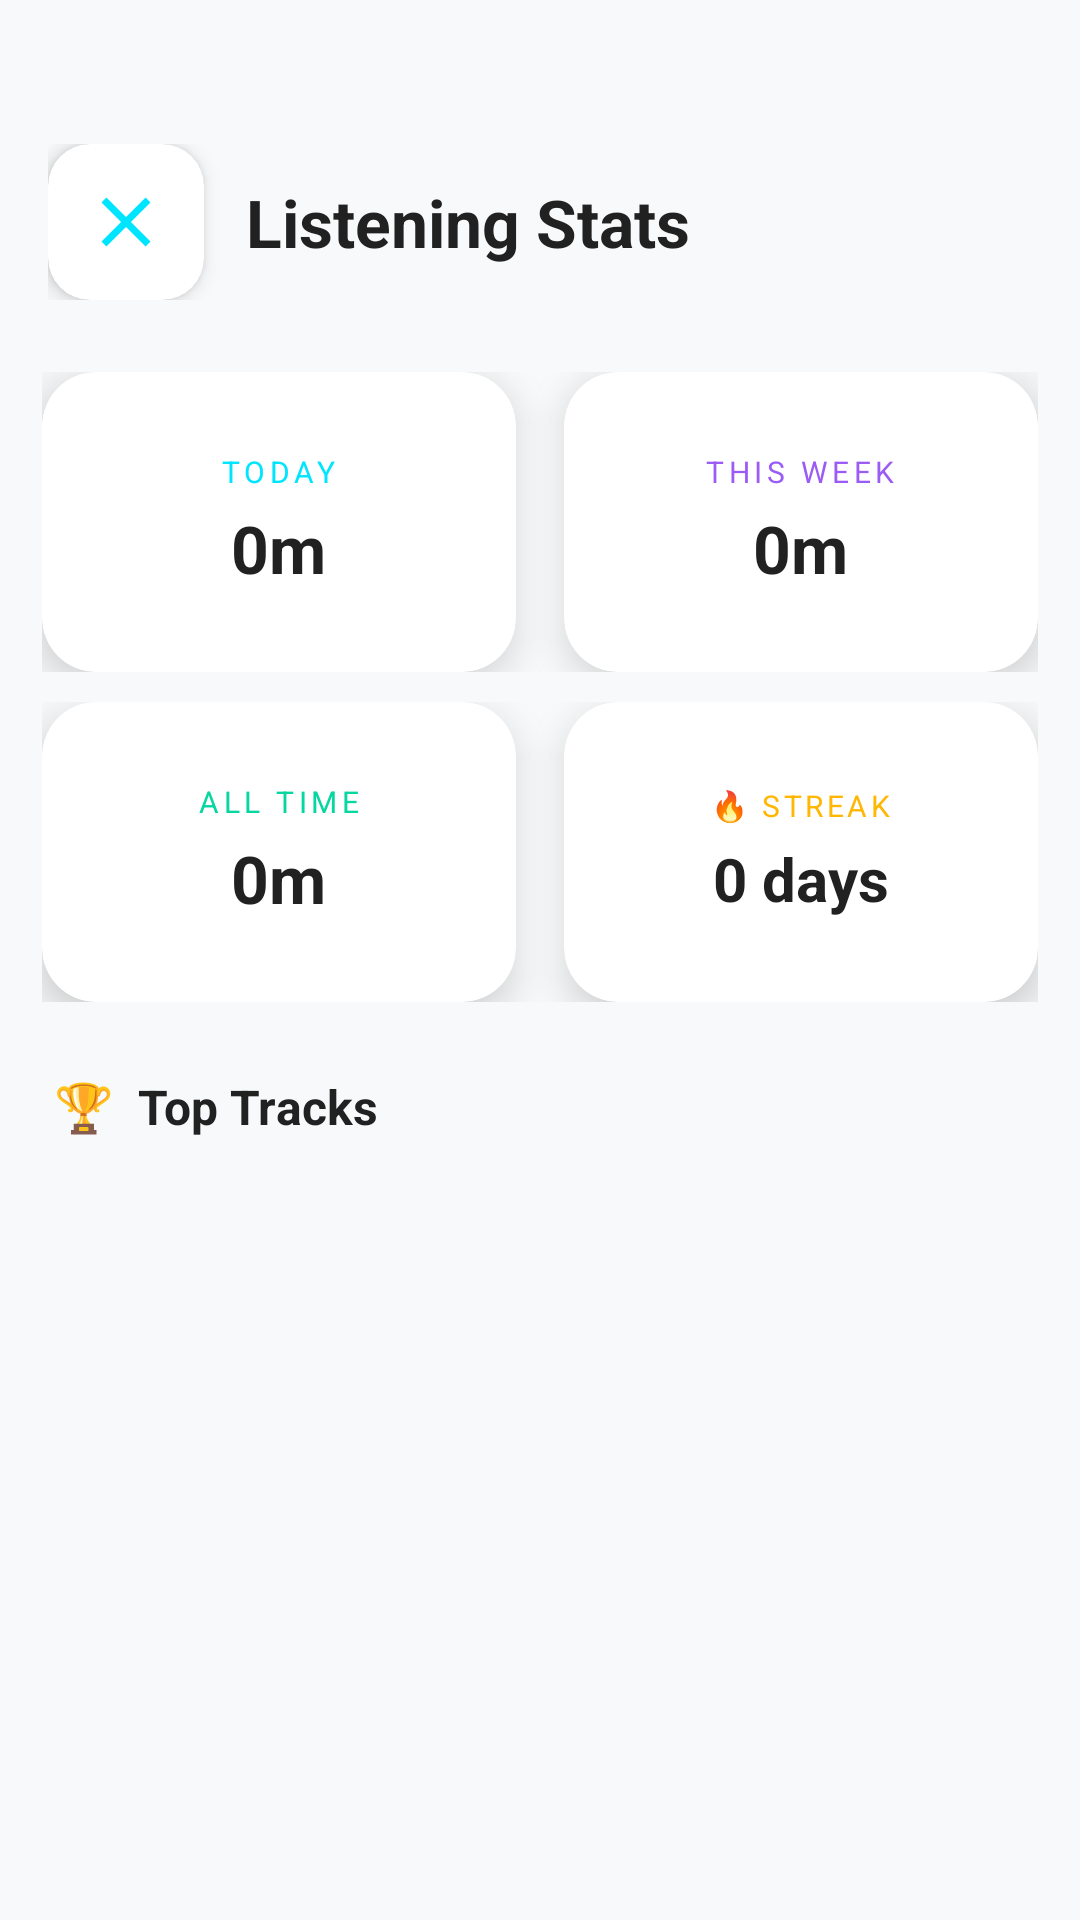

Named icons in this screenshot (1080px×1920px) and their bounding boxes, [left=x1, top=y1, right=x2, bottom=y2]:
close: [left=101, top=197, right=151, bottom=247]
